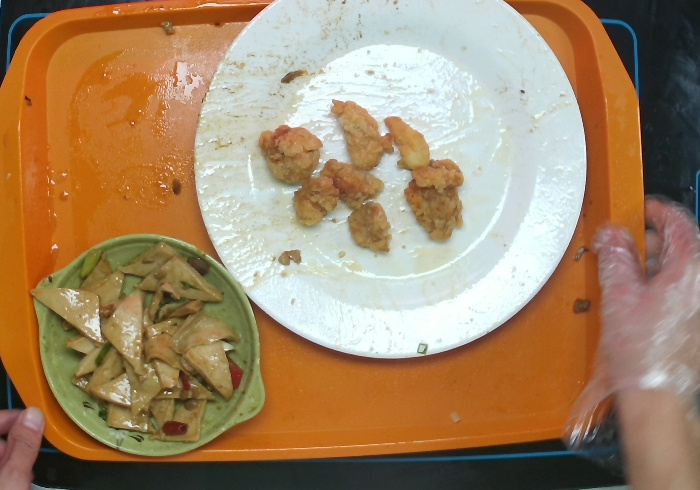NLDX-Da_Yuan_Pan: (189, 1, 591, 363)
NLDX-Lv_Hua_Shuang_Er_Die: (26, 230, 269, 463)
